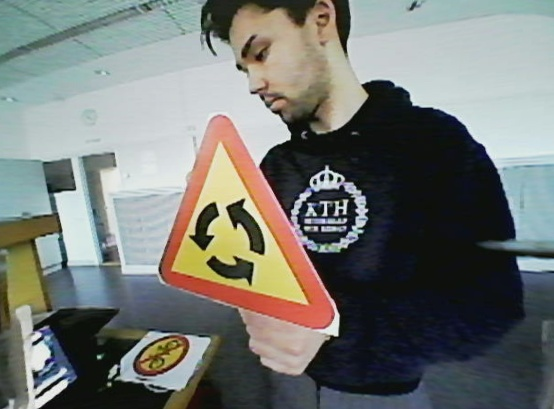roundabout_warning: (153, 107, 346, 342)
